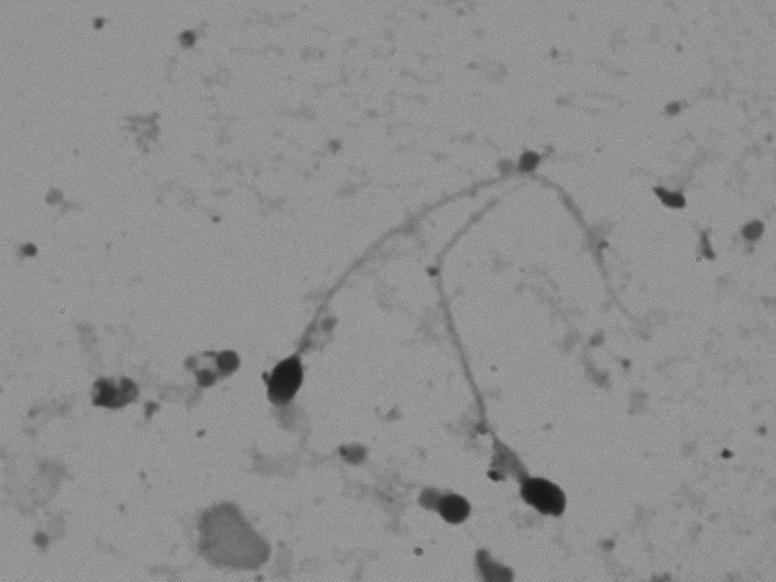Abnormal: (413, 183, 577, 522)
Normal: (253, 158, 667, 424)
